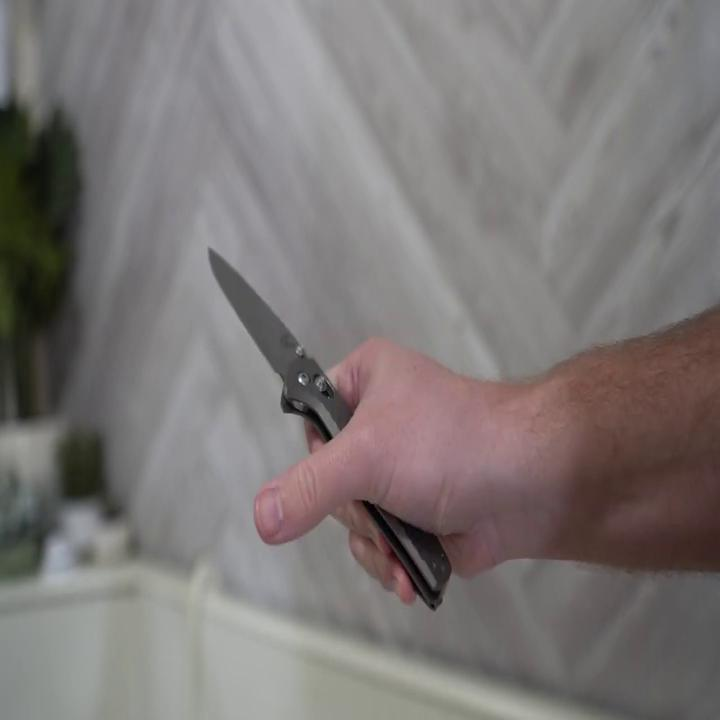knife: (204, 240, 456, 618)
